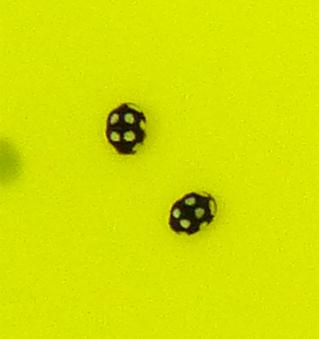Coleoptera: (100, 100, 152, 158), (164, 187, 219, 239)
